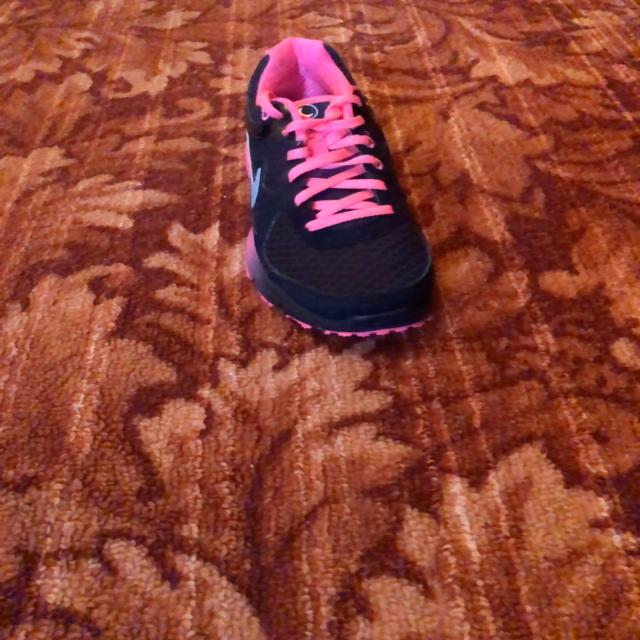shoe: (242, 37, 436, 339)
